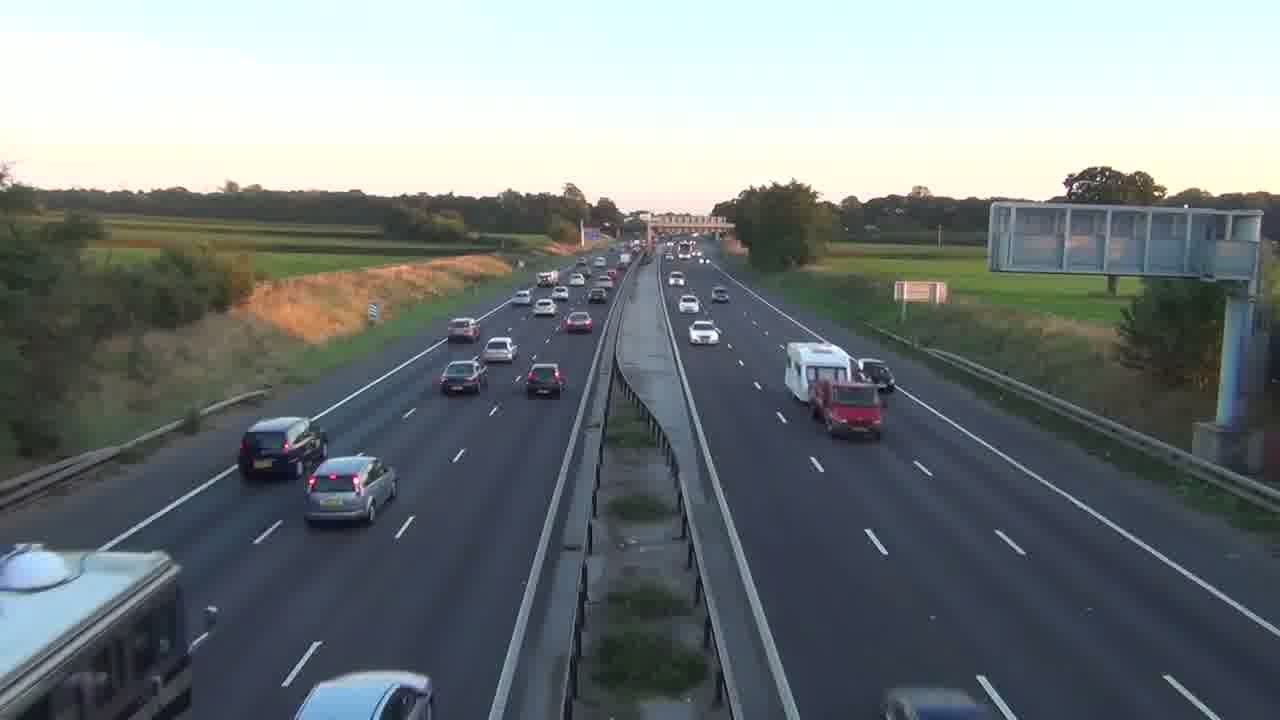bus: (0, 542, 197, 716), (783, 340, 851, 407)
car: (293, 669, 435, 719), (304, 454, 399, 526), (438, 358, 485, 395), (853, 356, 895, 392), (525, 362, 564, 398), (480, 337, 517, 363), (689, 319, 721, 346), (560, 310, 592, 334), (679, 293, 701, 313)
truck: (238, 415, 327, 481), (783, 340, 851, 407)
